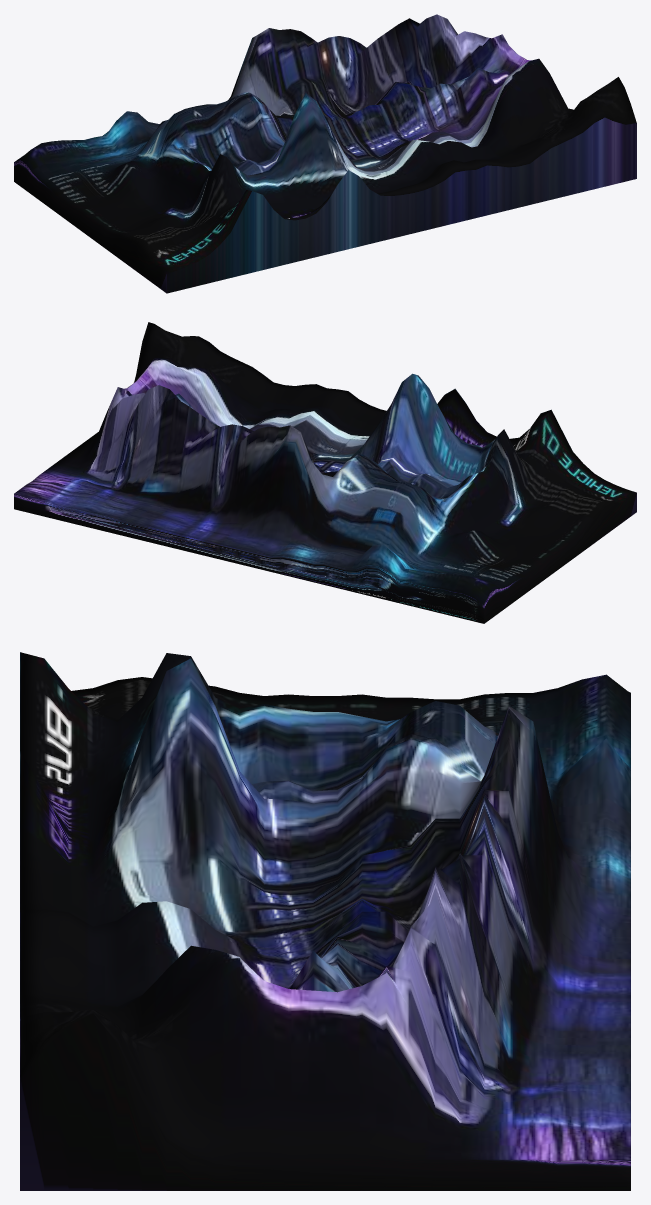
Rendered from VEHICLE_07_Bus.glb.
The picture shows the model from 3 angles, top to bottom: view 1: azimuth 30°, elevation 25°; view 2: azimuth 150°, elevation 25°; view 3: azimuth 270°, elevation 25°; orthographic projection. The views are drawn at different scales.
Parts seen in each view (by area): view 1: VEHICLE_07_Bus; view 2: VEHICLE_07_Bus; view 3: VEHICLE_07_Bus.
Boxes of the visible parts, box(x1,y1,x2,y2) form: VEHICLE_07_Bus: box(14, 14, 636, 293); VEHICLE_07_Bus: box(14, 322, 636, 623); VEHICLE_07_Bus: box(20, 652, 630, 1190).
Size of the model in its own units: 2 by 0.51 by 1.13.
1 material, 1 textured.
